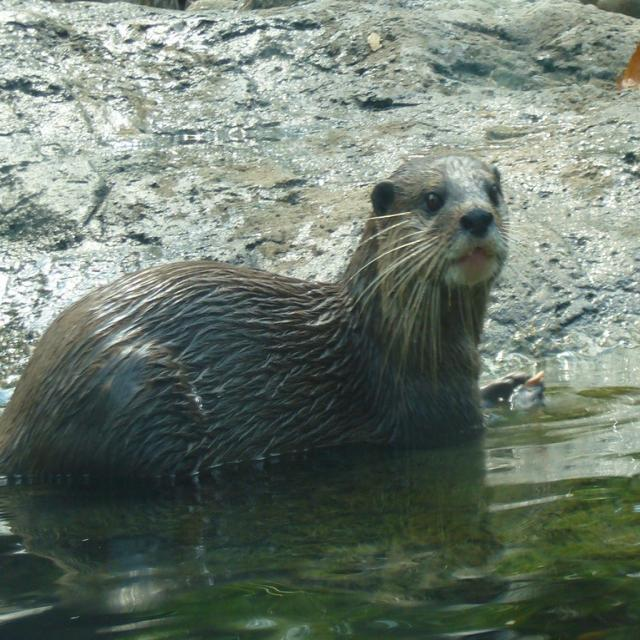otter: (3, 151, 508, 481)
